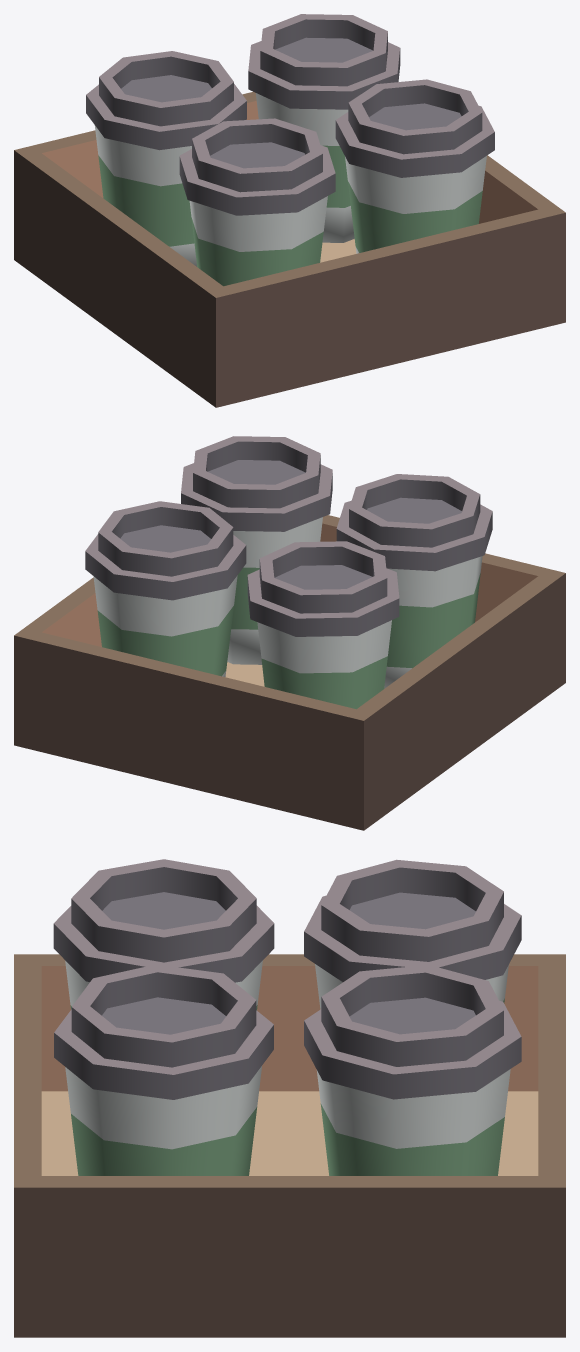
File: Package_Coffee.fbx
3 renders of one model, top to bottom at view 1: azimuth 30°, elevation 25°; view 2: azimuth 150°, elevation 25°; view 3: azimuth 270°, elevation 25°, orthographic. The views are drawn at different scales.
Visible parts, largest first — view 1: Package_Coffee; view 2: Package_Coffee; view 3: Package_Coffee.
Boxes of the visible parts, x1=… form: Package_Coffee: x1=14, y1=14, x2=565, y2=407; Package_Coffee: x1=14, y1=436, x2=565, y2=830; Package_Coffee: x1=14, y1=859, x2=565, y2=1337.
Bounding box in the file's own units: 39.37 × 21.29 × 39.37.
